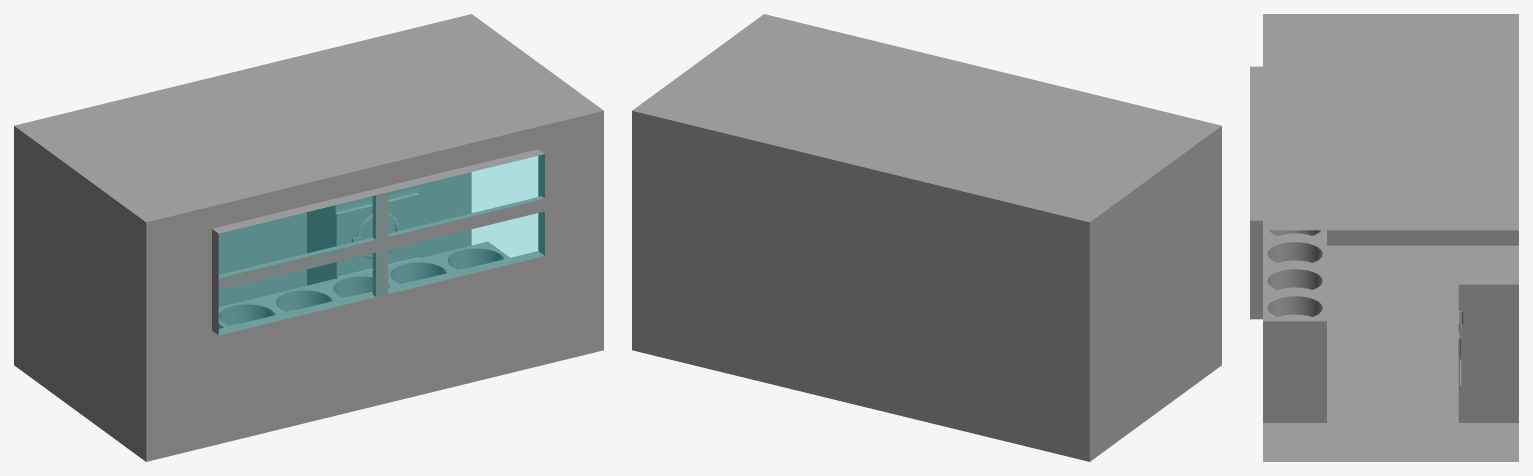
The model's file is Laundry.fbx.
The picture shows the model from 3 angles, left to right: view 1: azimuth 30°, elevation 25°; view 2: azimuth 150°, elevation 25°; view 3: azimuth 270°, elevation 25°; orthographic projection. The views are drawn at different scales.
Visible parts, largest first — view 1: polySurface5; view 2: polySurface5; view 3: polySurface5.
Part boxes in pixels (bbox=[...]): polySurface5: bbox=[14, 14, 603, 461]; polySurface5: bbox=[632, 14, 1221, 461]; polySurface5: bbox=[1250, 14, 1518, 461].
Size of the model in its own units: 16 by 8 by 8.41.
